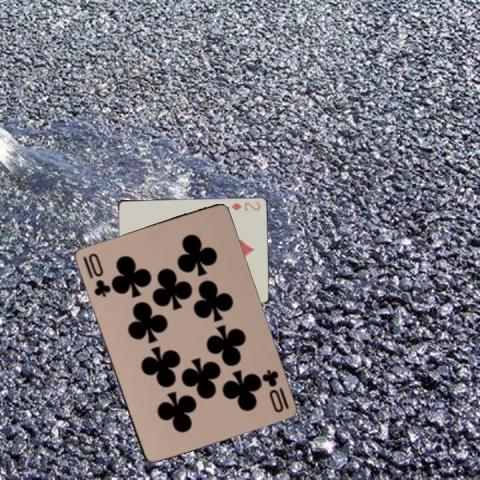10c: (80, 250, 111, 298), (259, 366, 290, 414)
2d: (229, 199, 262, 212)
